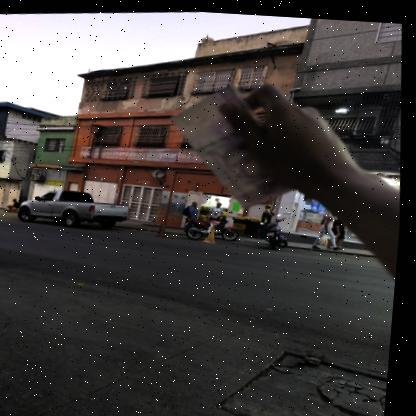vef_back: (163, 73, 304, 212)
